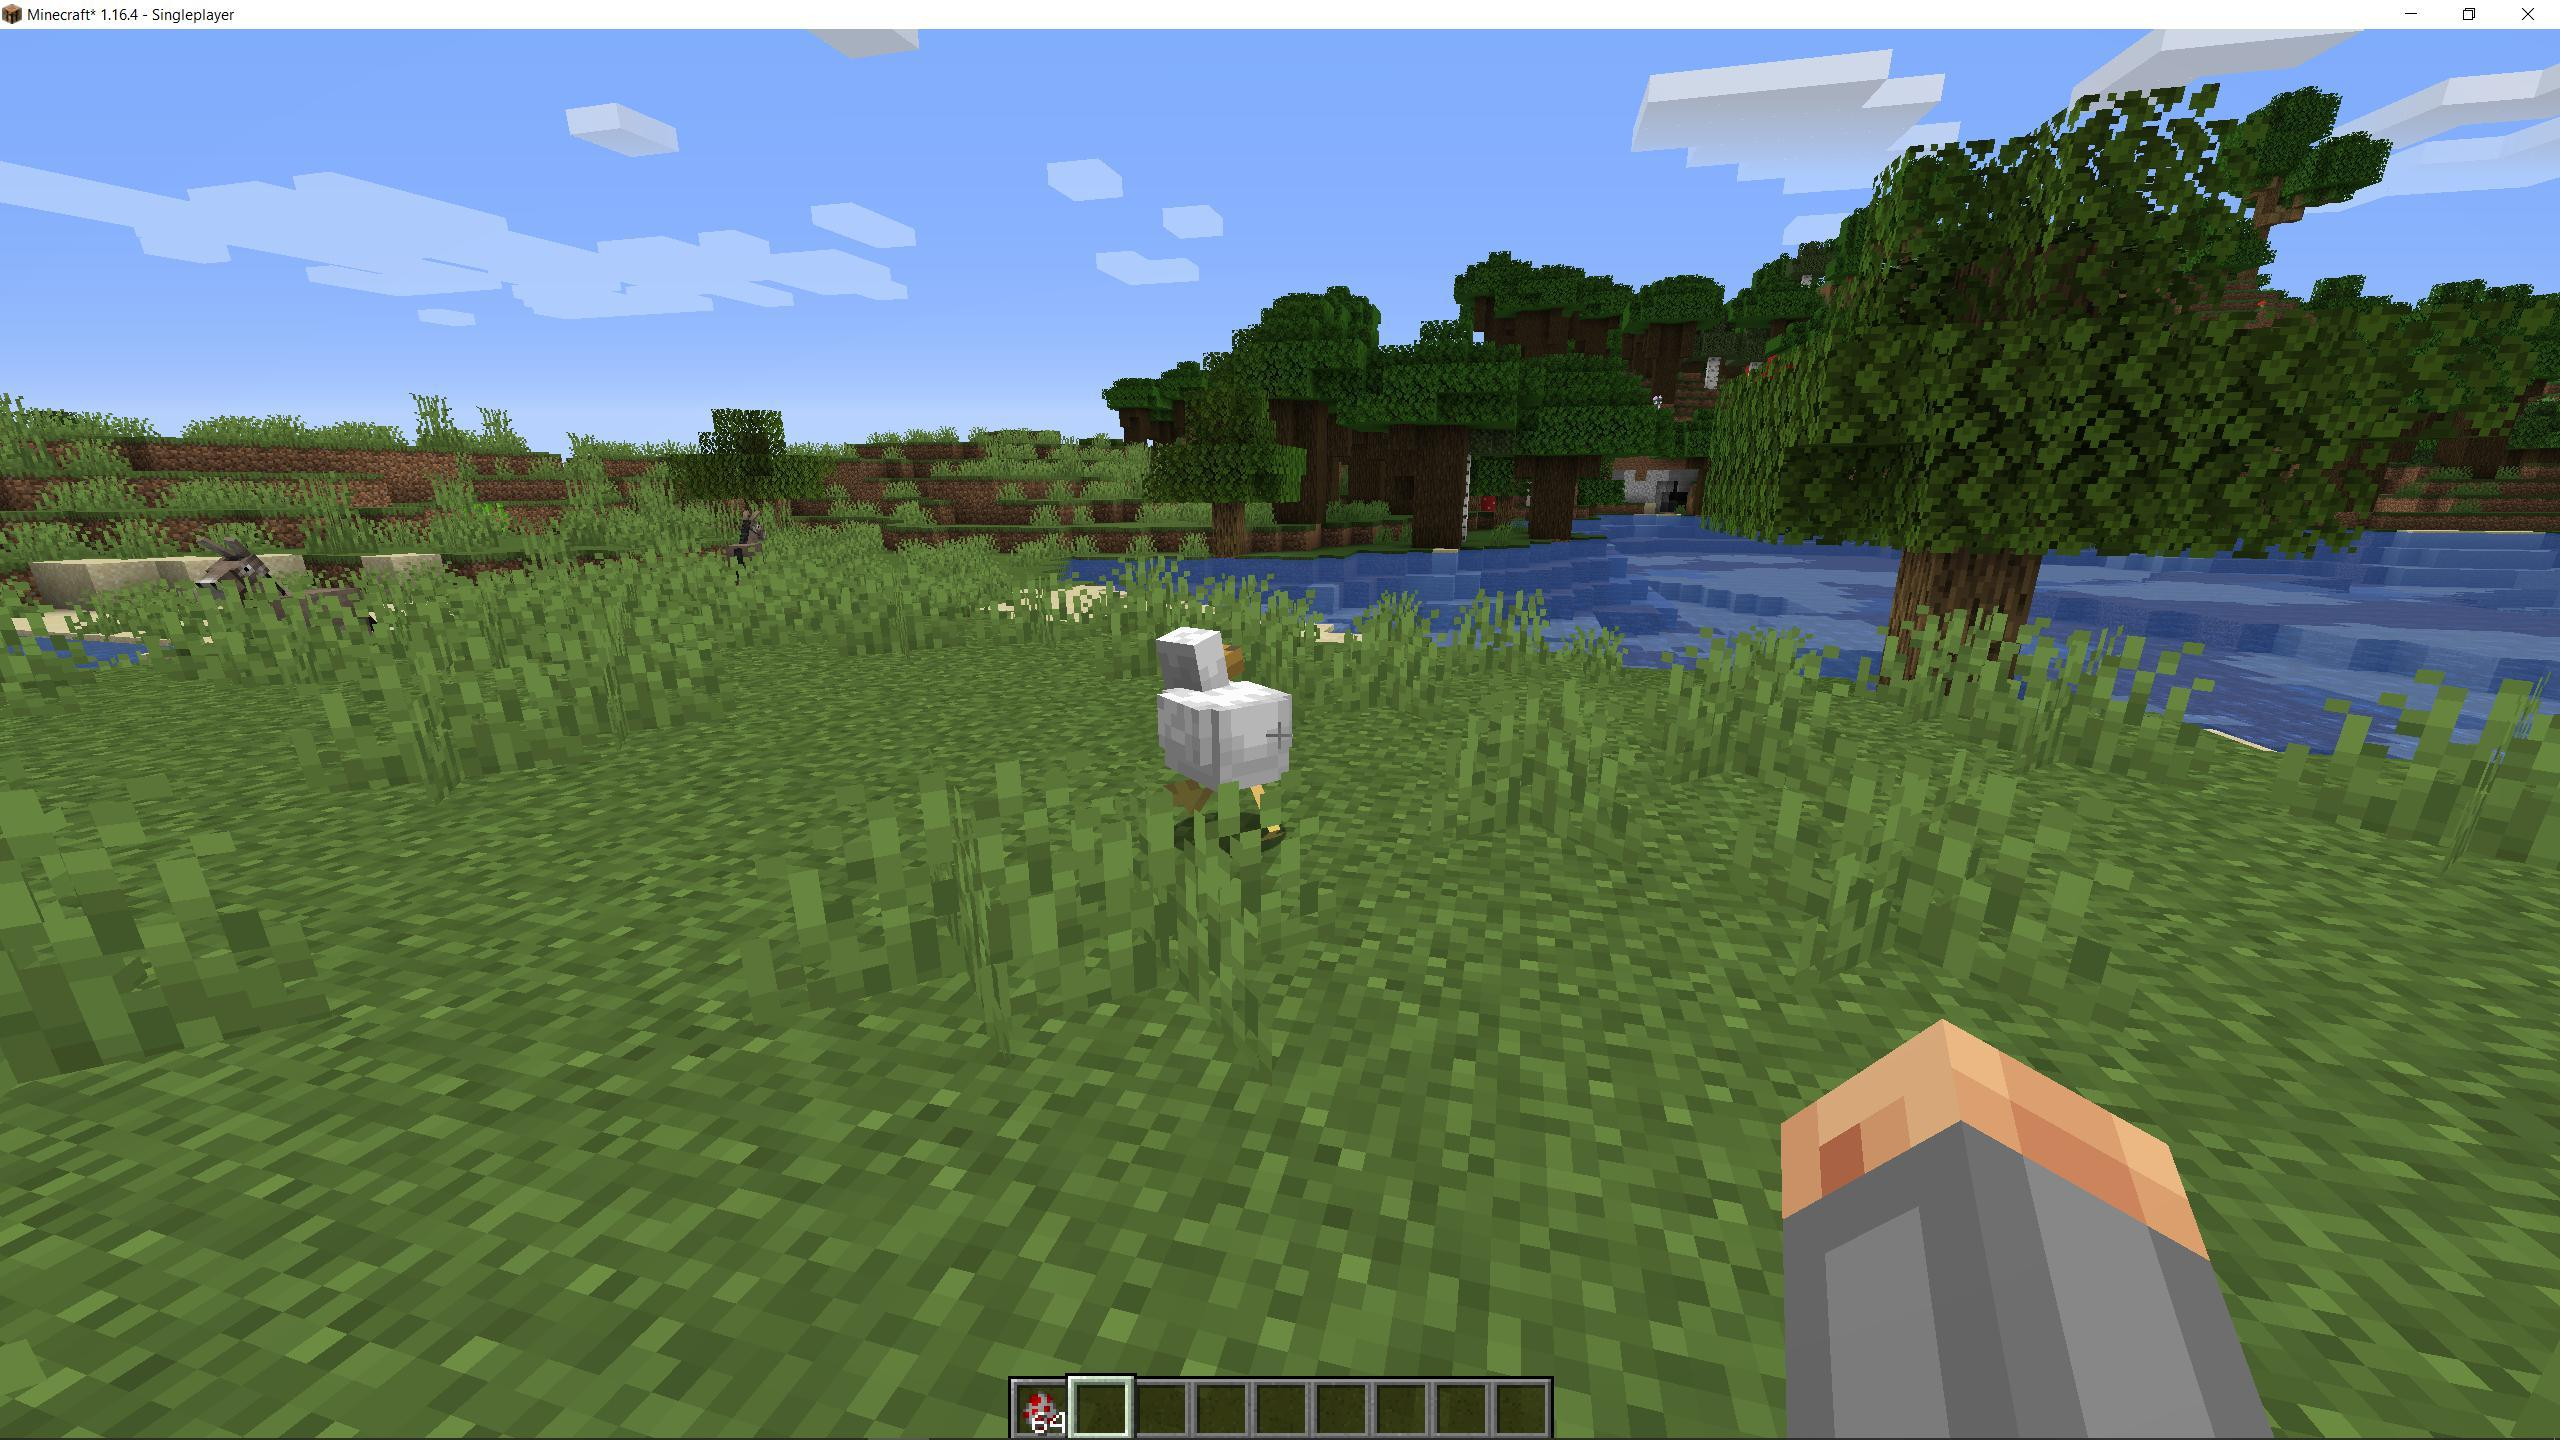chicken: (1145, 628, 1294, 849)
